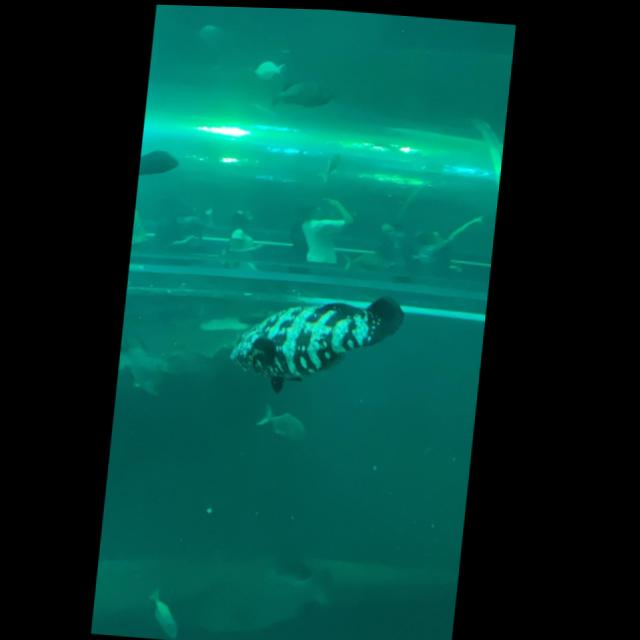Groupers: (226, 283, 407, 401)
